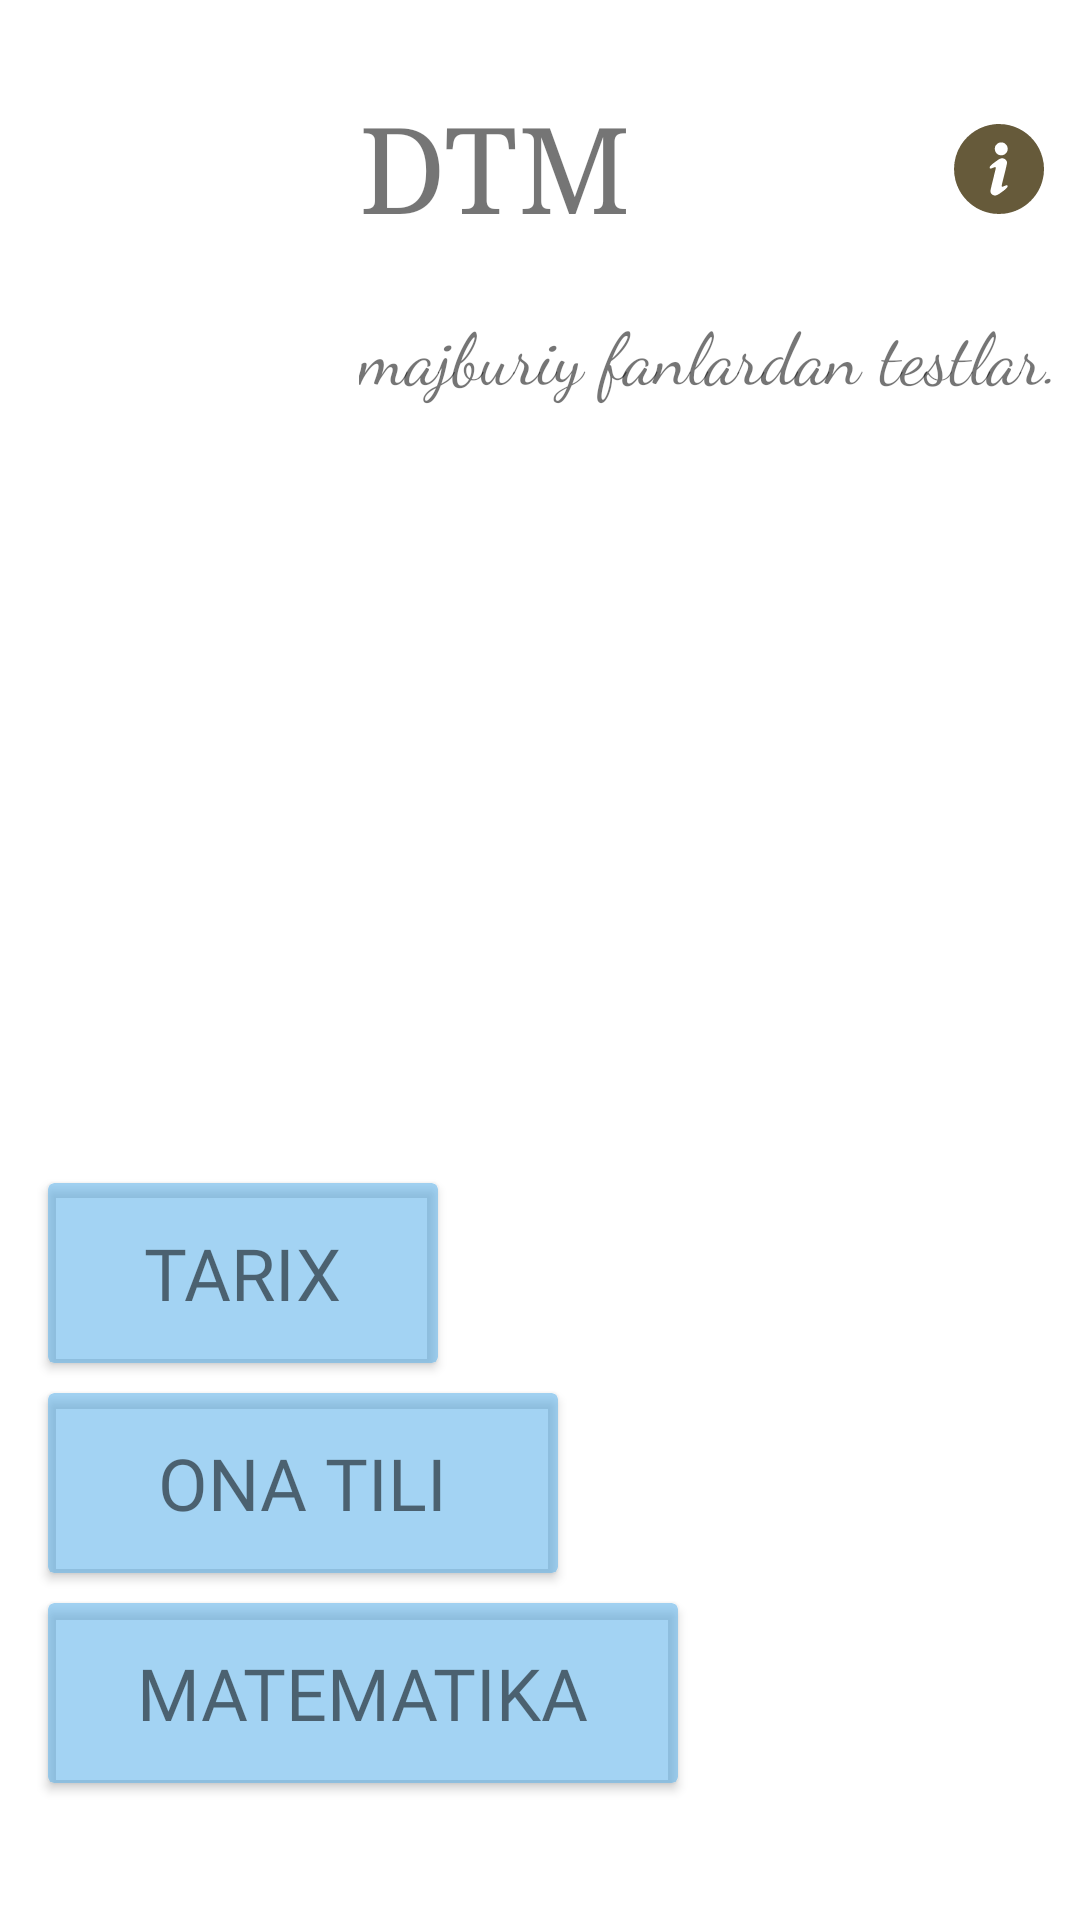

Where icons sit on this 1080×1920 app screen, as (x1, y1, x2, y2):
info: (954, 124, 1044, 214)
